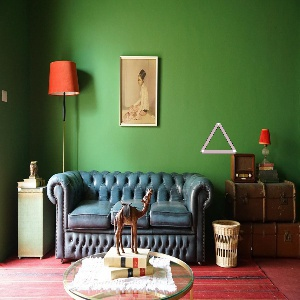triangle: (199, 120, 239, 158)
